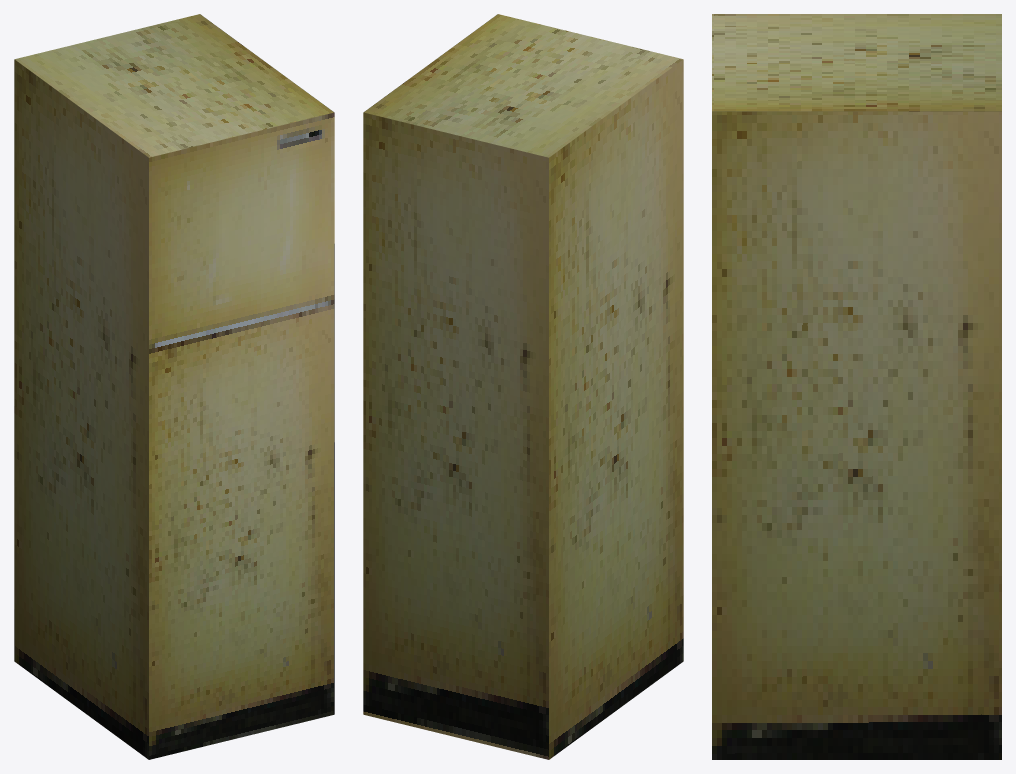
File: fridge.glb
3 renders of one model, left to right at view 1: azimuth 30°, elevation 25°; view 2: azimuth 150°, elevation 25°; view 3: azimuth 270°, elevation 25°, orthographic. The views are drawn at different scales.
Parts seen in each view (by area): view 1: fridge-col; view 2: fridge-col; view 3: fridge-col.
Part boxes in pixels (bbox=[...]): fridge-col: bbox=[14, 14, 334, 759]; fridge-col: bbox=[363, 14, 683, 759]; fridge-col: bbox=[712, 14, 1001, 759].
Size of the model in its own units: 1 by 3.1 by 1.26.
1 material, 1 textured.
